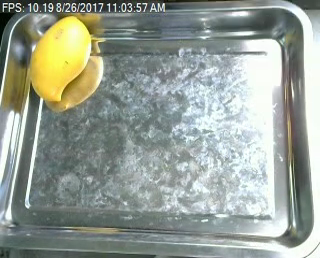Mango: (19, 13, 100, 105)
